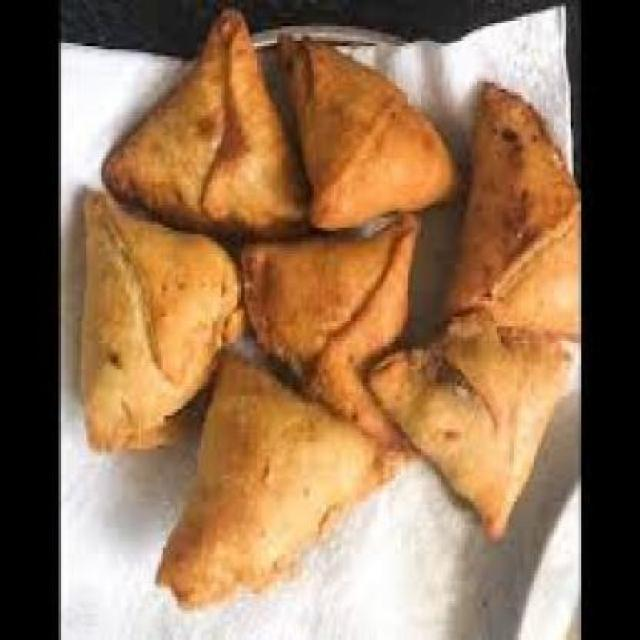samosa: (155, 360, 417, 611), (102, 6, 309, 245), (371, 311, 572, 537), (240, 217, 418, 465), (80, 184, 242, 453), (276, 36, 464, 230), (445, 82, 577, 343)
